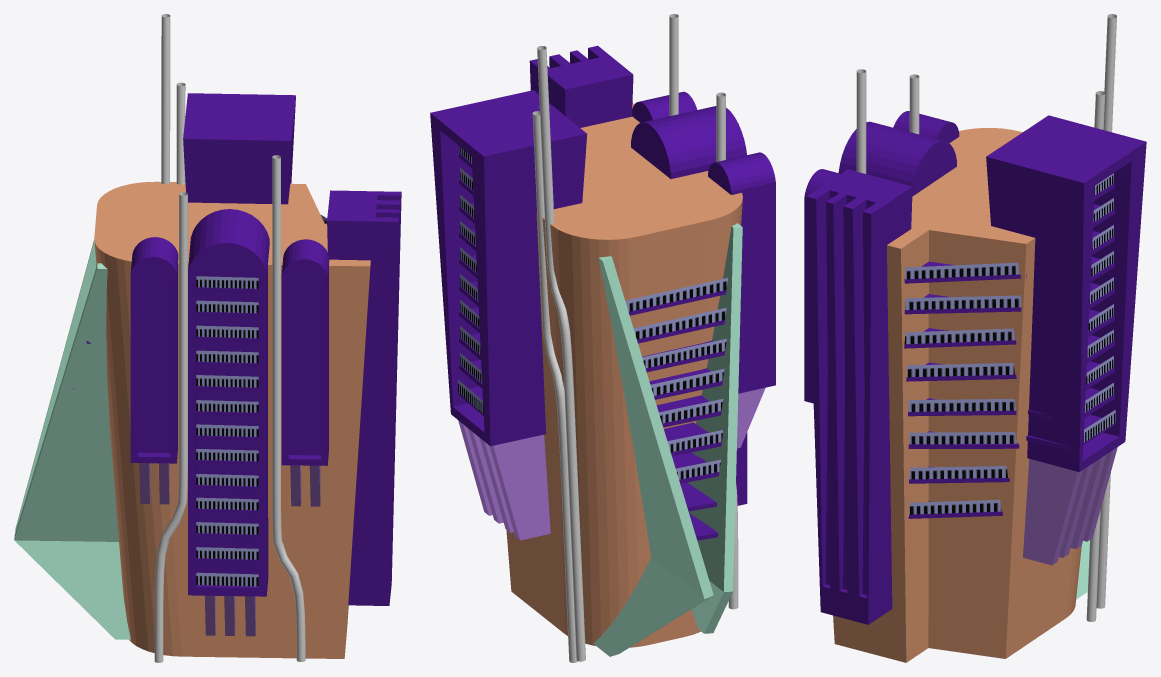
The model's file is edificio2.fbx.
3 renders of one model, left to right at view 1: azimuth 30°, elevation 25°; view 2: azimuth 150°, elevation 25°; view 3: azimuth 270°, elevation 25°, orthographic. The views are drawn at different scales.
Parts seen in each view (by area): view 1: Cube.005, Plane.131, Cylinder.050, Cube.007, Plane.123, Cube.006, Cylinder.052, Cylinder.051, Cylinder.054, Cylinder.053, Plane.132, Cylinder.056 (+1 smaller); view 2: Cube.005, Cube.006, Plane.132, Plane.131, Cylinder.051, Cylinder.050, Cylinder.056, Cube.007, Plane.150, Cylinder.055, Plane.153, Cylinder.053 (+18 smaller); view 3: Cube.005, Cube.007, Cube.006, Plane.153, Cylinder.050, Plane.151, Cylinder.056, Cylinder.052, Plane.110, Plane.108, Plane.112, Cylinder.055 (+19 smaller).
Boxes of the visible parts, x1,y1,x2,y2 form: Cube.005: (94,181,370,658); Plane.131: (14,263,130,639); Cylinder.050: (188,209,269,596); Cube.007: (327,190,401,605); Plane.123: (196,276,258,586); Cube.006: (183,93,295,204); Cylinder.052: (281,239,329,465); Cylinder.051: (130,237,178,463); Cylinder.054: (272,155,305,661); Cylinder.053: (154,192,187,662); Plane.132: (15,239,96,531); Cylinder.056: (161,14,170,184); Cube.005: (506,103,742,647); Cube.006: (430,90,587,446); Plane.132: (593,256,713,656); Plane.131: (687,223,742,633); Cylinder.051: (708,152,775,393); Cylinder.050: (631,106,747,505); Cylinder.056: (537,46,585,661); Cube.007: (529,45,633,127); Plane.150: (489,434,550,540); Cylinder.055: (532,111,577,662); Plane.153: (458,147,483,415); Cylinder.053: (716,92,738,609); Cube.005: (833,128,1081,662); Cube.007: (806,169,912,624); Cube.006: (986,115,1146,472); Plane.153: (1026,173,1115,450); Cylinder.050: (838,121,956,196); Plane.151: (1023,459,1082,565); Cylinder.056: (1096,14,1116,608); Cylinder.052: (804,169,840,403); Plane.110: (905,295,1021,309); Plane.108: (905,262,1019,279); Plane.112: (904,328,1014,344); Cylinder.055: (1086,91,1105,621).
Size of the model in its own units: 1309 by 2486 by 1255.
Materials: 5 (1 with a texture image).
